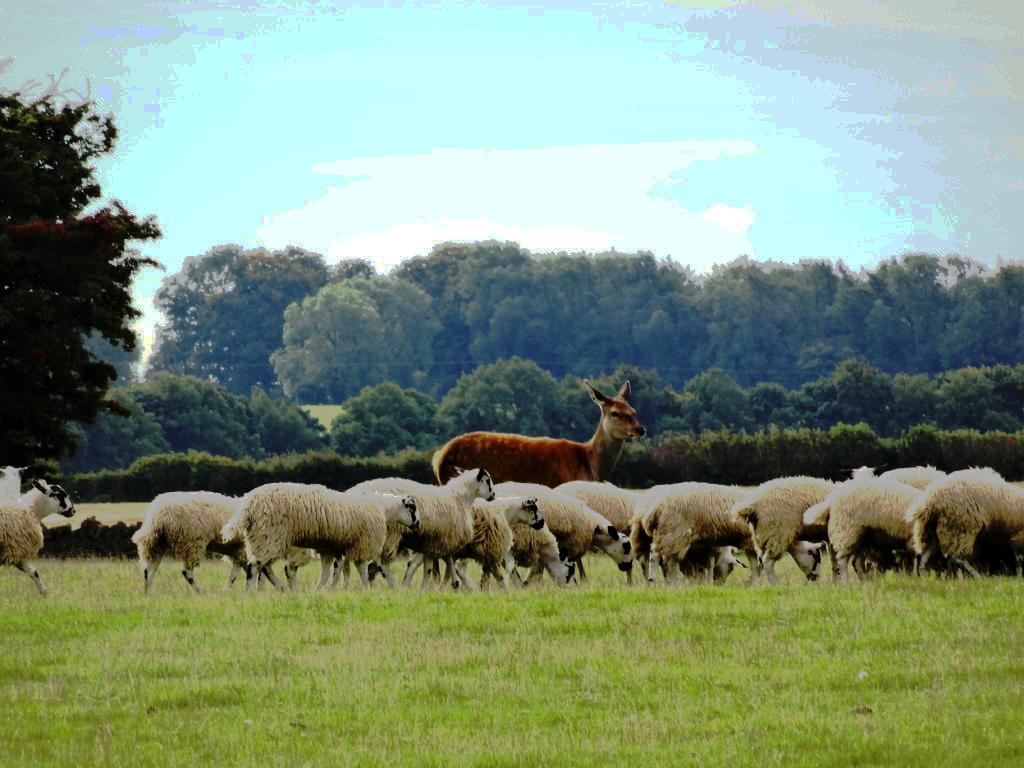Sheep: (221, 473, 422, 597), (322, 472, 502, 590), (906, 468, 1024, 581), (630, 482, 758, 586), (730, 475, 851, 585), (132, 489, 244, 594), (450, 494, 550, 592), (556, 480, 648, 584), (856, 466, 946, 568), (0, 474, 75, 593), (878, 466, 944, 492), (355, 477, 436, 497), (486, 481, 559, 496)
